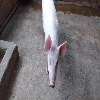heo: (41, 32, 69, 90)
